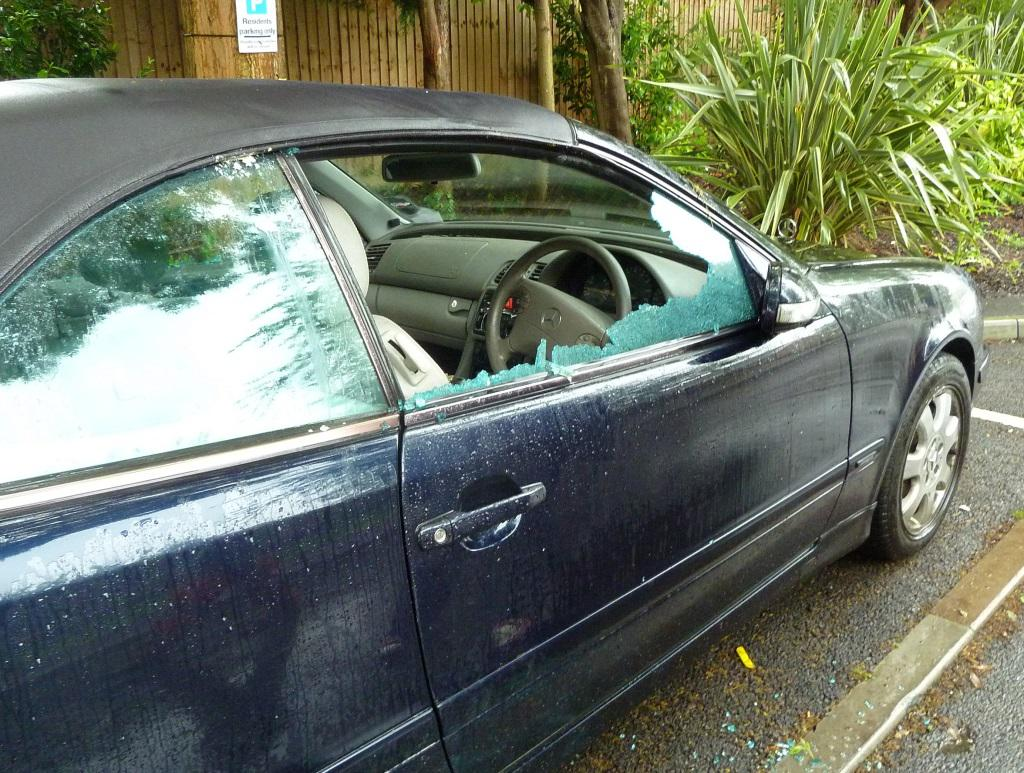doorouter-dent: (418, 120, 877, 750)
